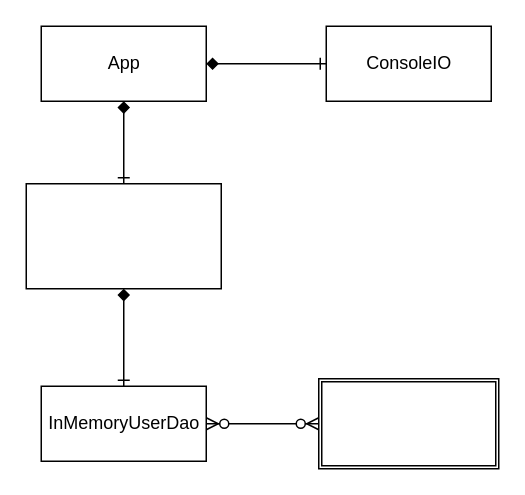
This 525x495 diagram has some shape labels left out. The centre of each missing label's shape, as x and y in pixels:
"AuthenticationService" goes at point 123,235.
"User" goes at point 408,423.
